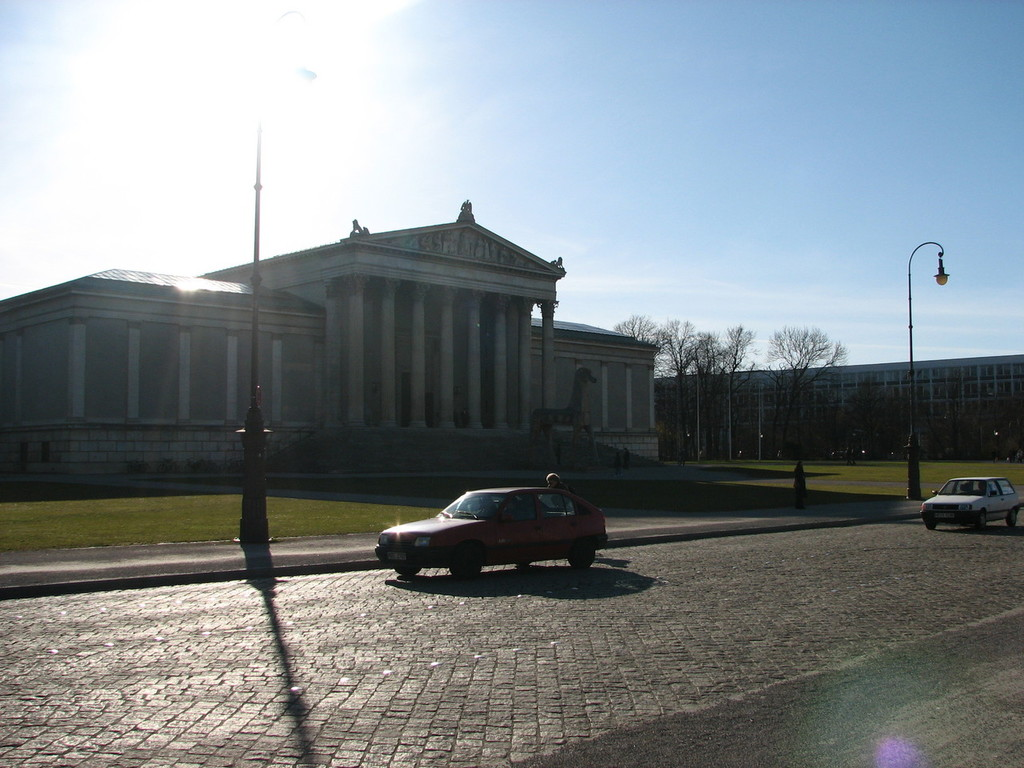cars: (362, 474, 619, 583), (918, 477, 1021, 530)
